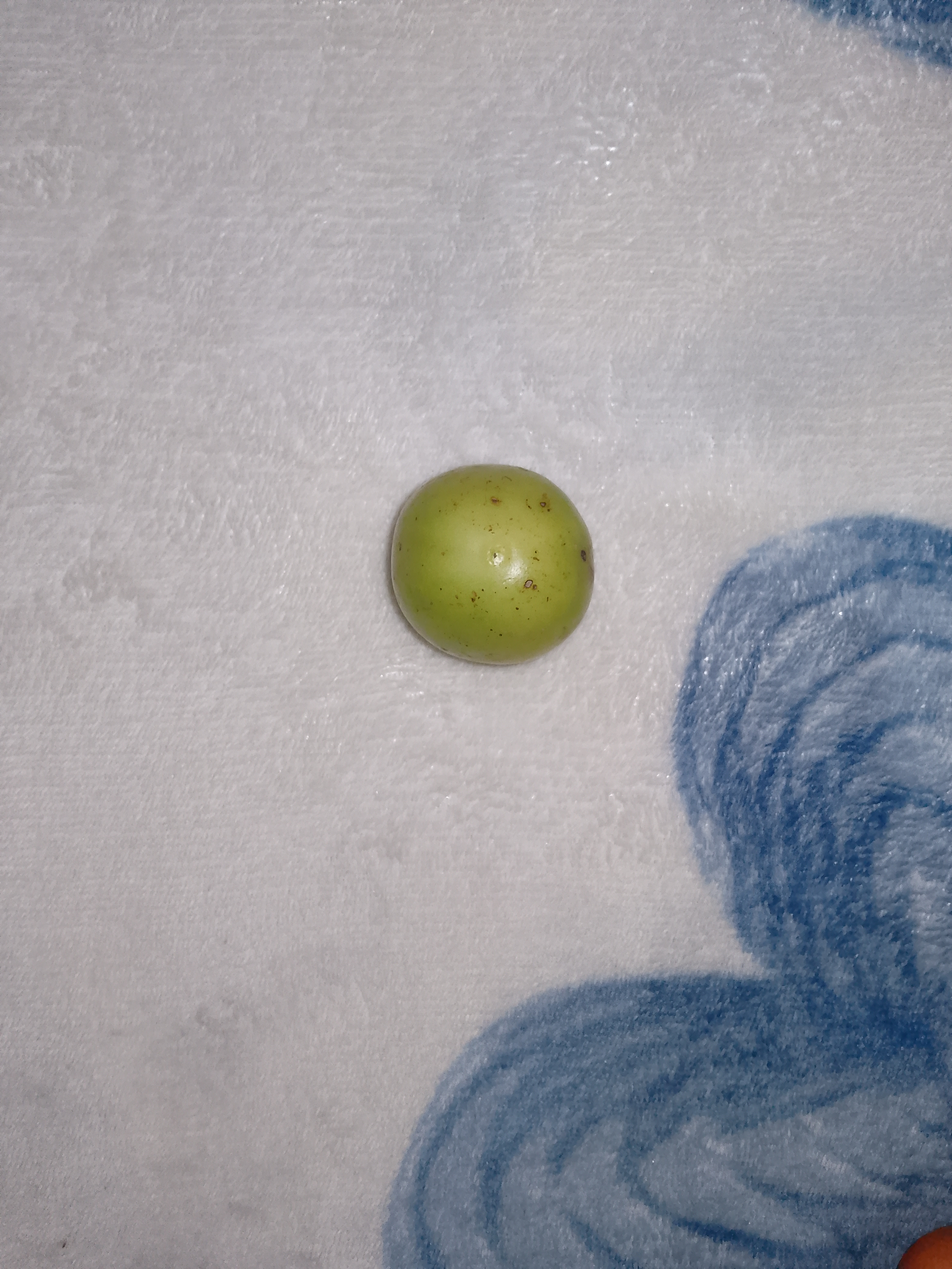Unripe: (345, 389, 680, 721)
